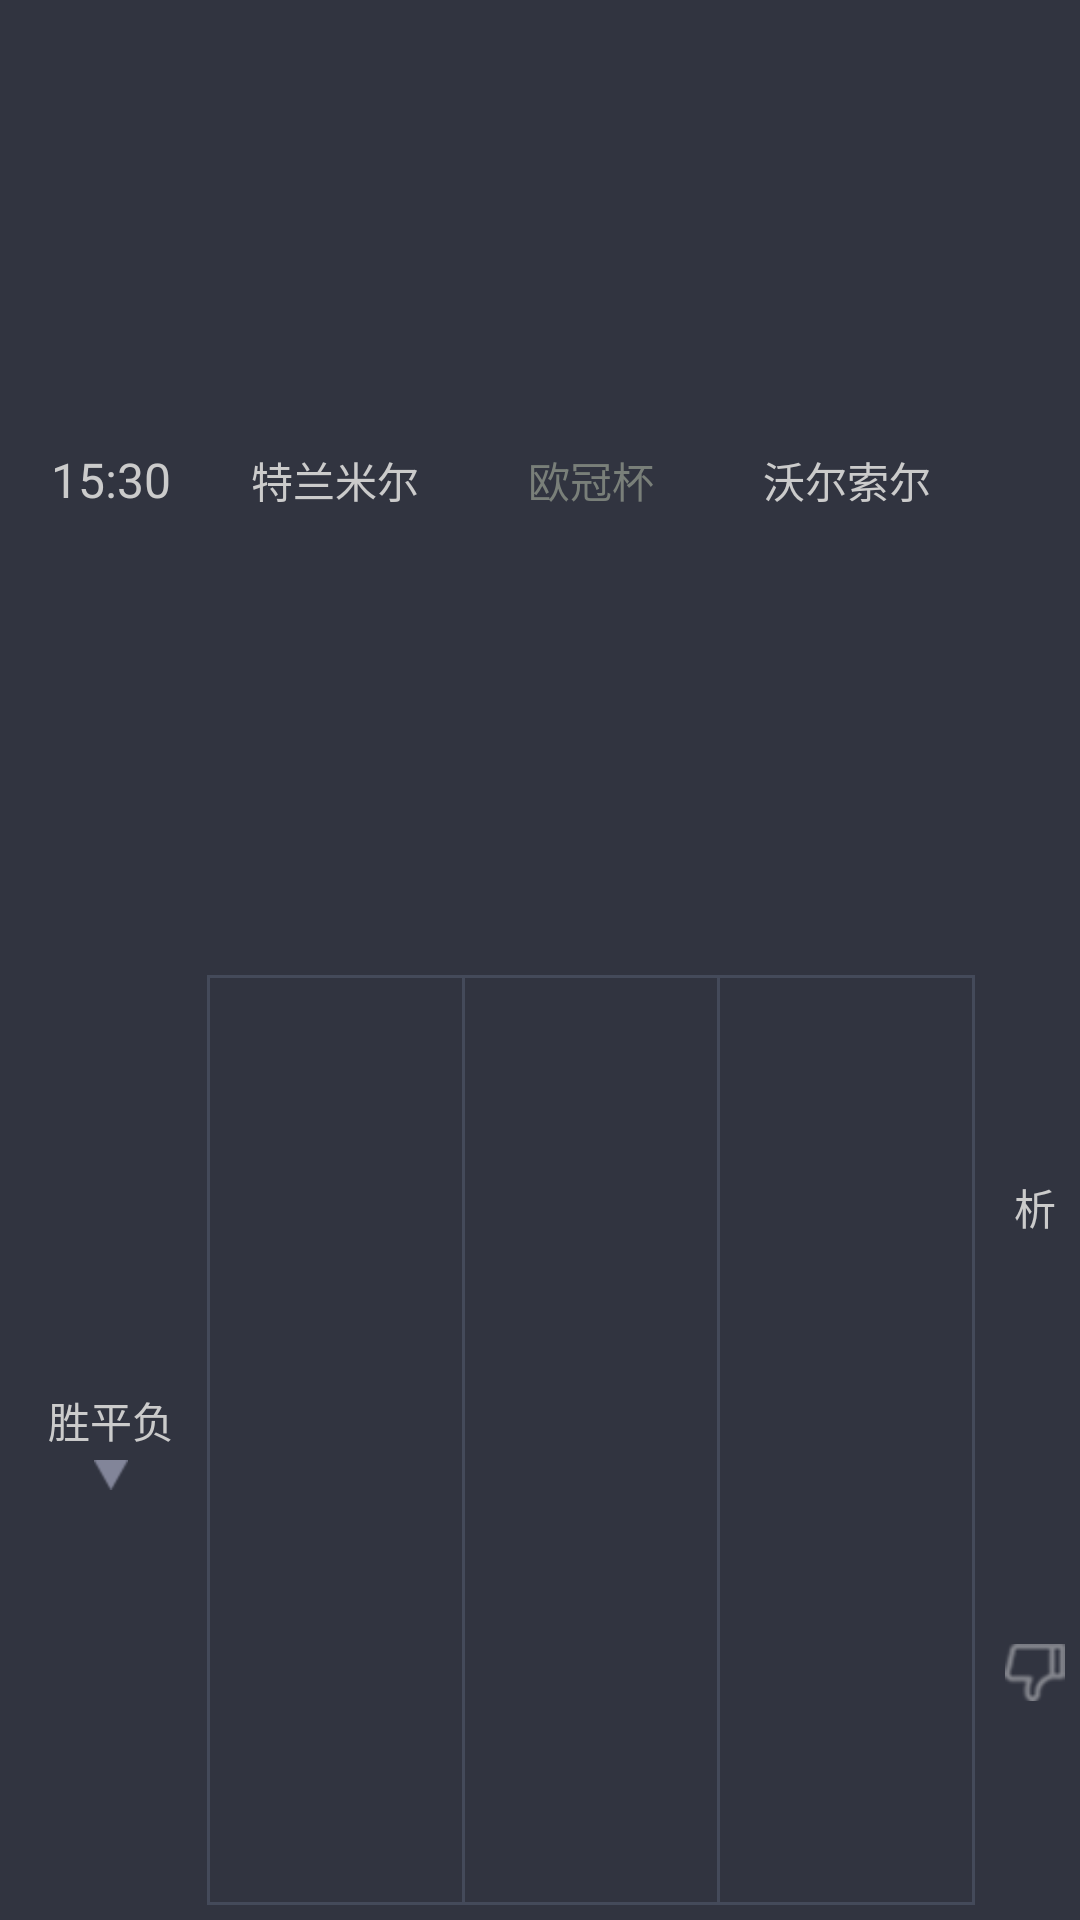

Named icons in this screenshot (1080 x 1920) and their centers, point (x, y):
dis agree: point (1035, 1672)
more down: point (111, 1475)
